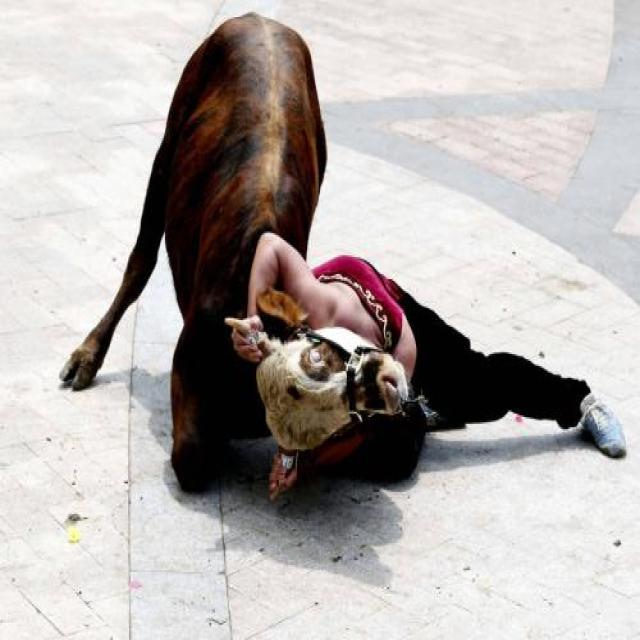down: (221, 223, 631, 504)
